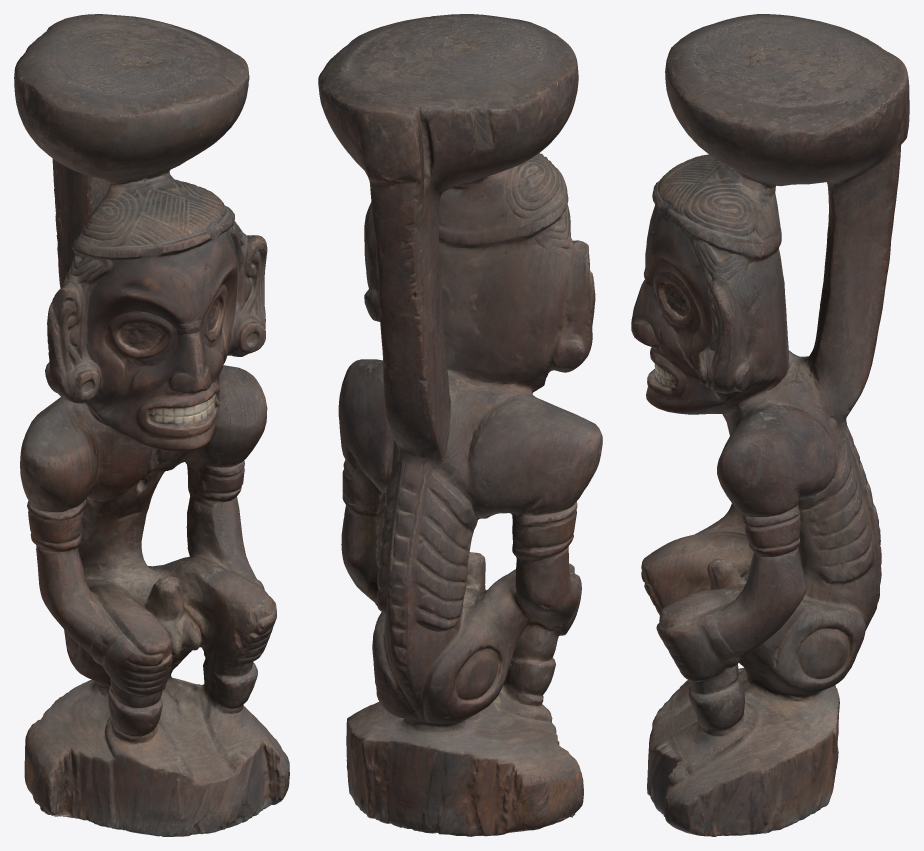
The model's file is zemi_cohoba_stand.glb.
The picture shows the model from 3 angles, left to right: view 1: azimuth 30°, elevation 25°; view 2: azimuth 150°, elevation 25°; view 3: azimuth 270°, elevation 25°; orthographic projection. The views are drawn at different scales.
Parts seen in each view (by area): view 1: ADVIMG_PG_1979_206_380_AAOA_WoodDeity_16K_n3d; view 2: ADVIMG_PG_1979_206_380_AAOA_WoodDeity_16K_n3d; view 3: ADVIMG_PG_1979_206_380_AAOA_WoodDeity_16K_n3d.
Boxes of the visible parts, x1=… form: ADVIMG_PG_1979_206_380_AAOA_WoodDeity_16K_n3d: x1=14, y1=14, x2=289, y2=836; ADVIMG_PG_1979_206_380_AAOA_WoodDeity_16K_n3d: x1=318, y1=14, x2=602, y2=836; ADVIMG_PG_1979_206_380_AAOA_WoodDeity_16K_n3d: x1=631, y1=14, x2=909, y2=836.
Bounding box in the file's own units: 0.2251 × 0.6677 × 0.2306.
1 material, 1 textured.
